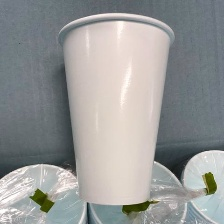paper_cup: (52, 8, 179, 210)
